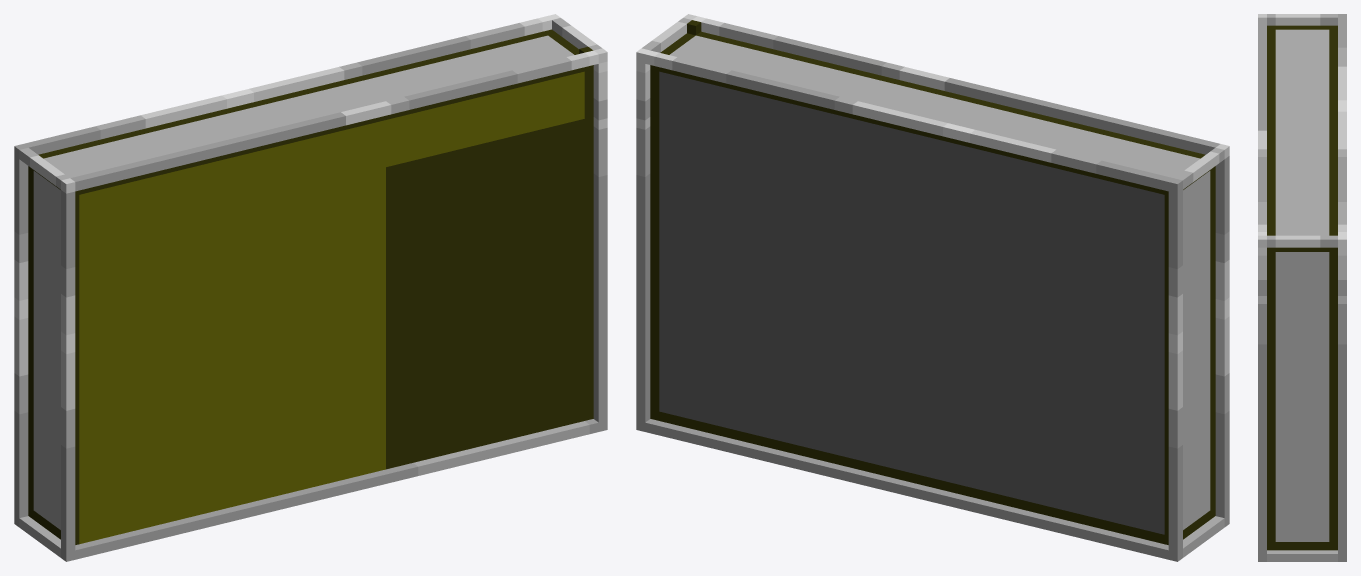
File: Barraks Wall 3.obj
3 renders of one model, left to right at view 1: azimuth 30°, elevation 25°; view 2: azimuth 150°, elevation 25°; view 3: azimuth 270°, elevation 25°, orthographic. The views are drawn at different scales.
Size of the model in its own units: 60 by 40 by 10.
1 material, 1 textured.
